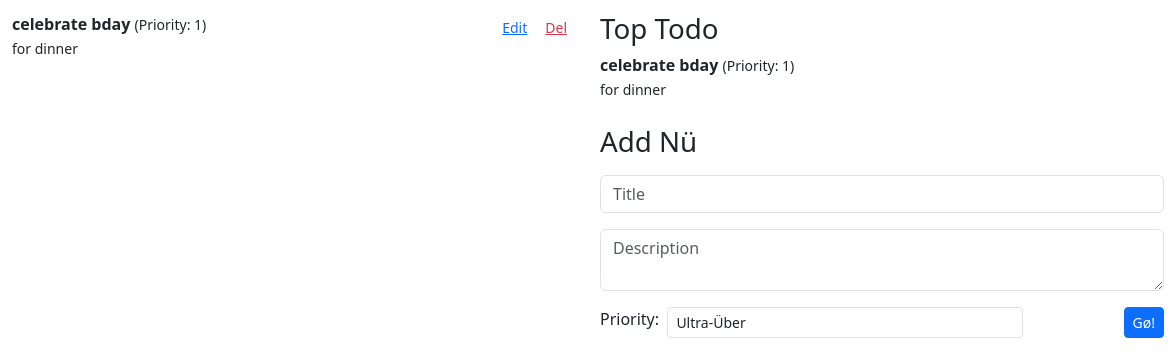
Test: TodoApp › edits a todo
Click the button with class "EditableTodo-toggle".
click(515, 28)  # box [493,12,536,43]
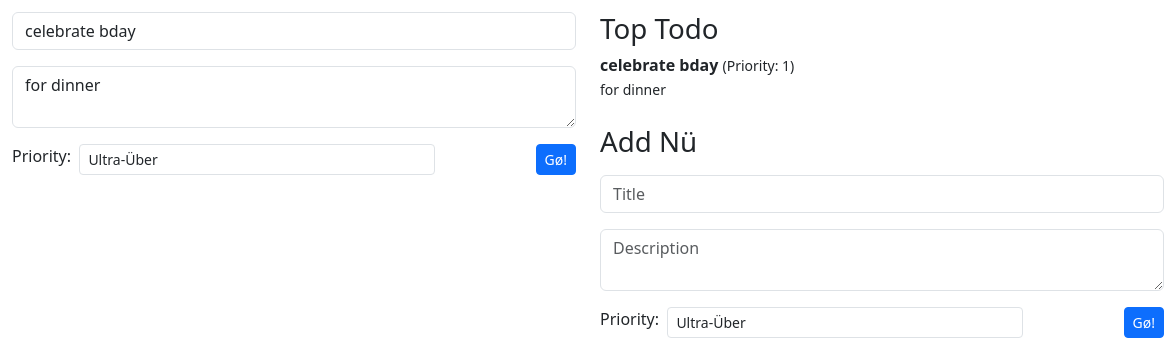
Replace the text in the field with id "newTodo-title" with "eat ice cream" at (294, 31), box [12,12,576,50]
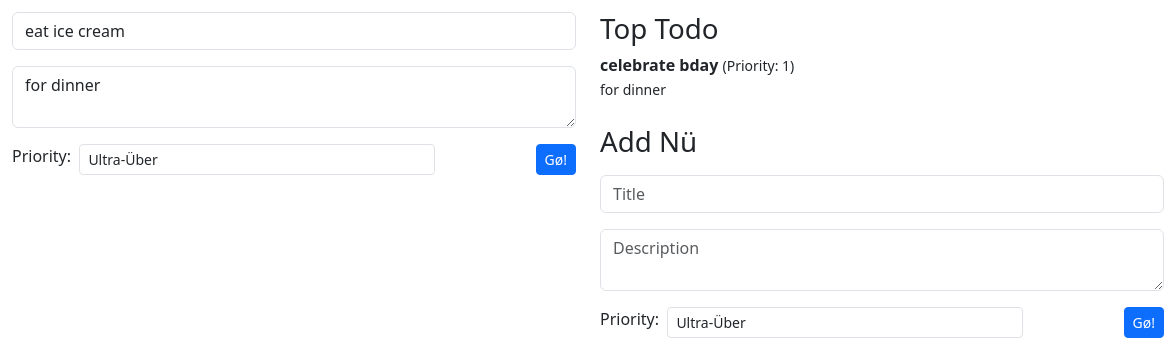
Replace the text in the text box with id "newTodo-description" with "BOGO!!!" at (294, 97), box [12,66,576,128]
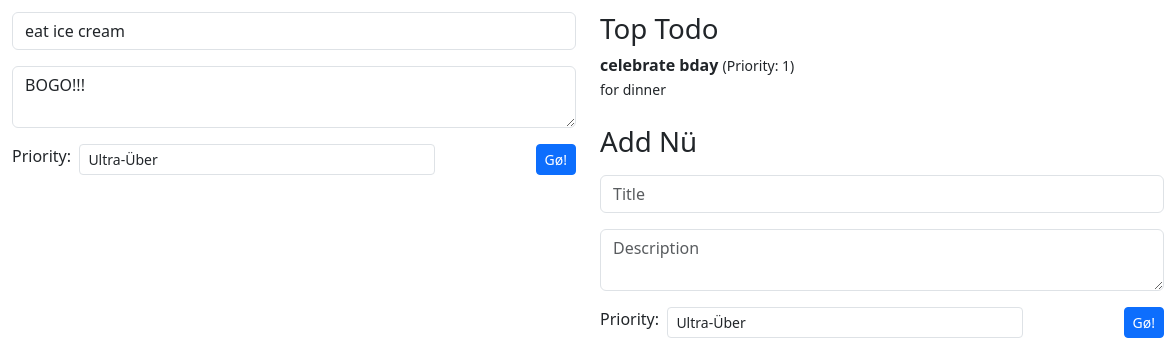
Click the 1st button with class "NewTodoForm-addBtn".
click(556, 160)  # box [536,144,576,175]
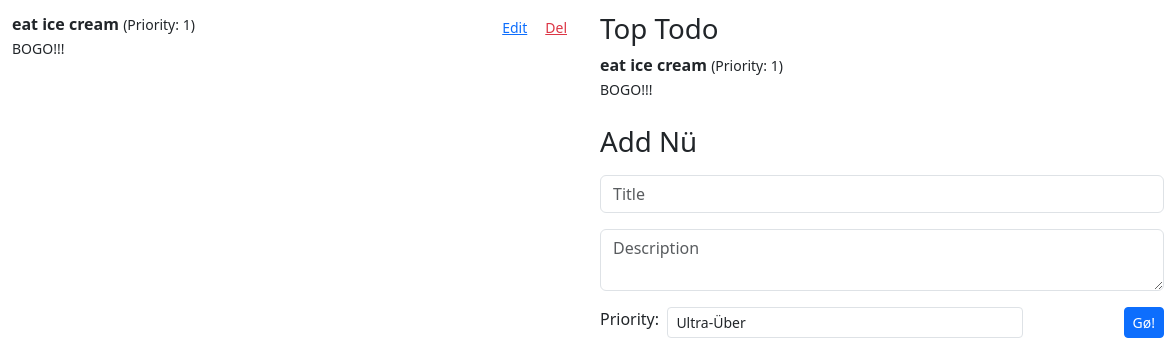
Now the element with class "EditableTodoList" shows "eat ice cream", box [12,13,119,35]
Now the element with class "EditableTodoList" shows "BOGO!!!", box [12,39,64,58]
Now the element with class "EditableTodoList" no longer shows "for dinner", box [12,12,576,60]
